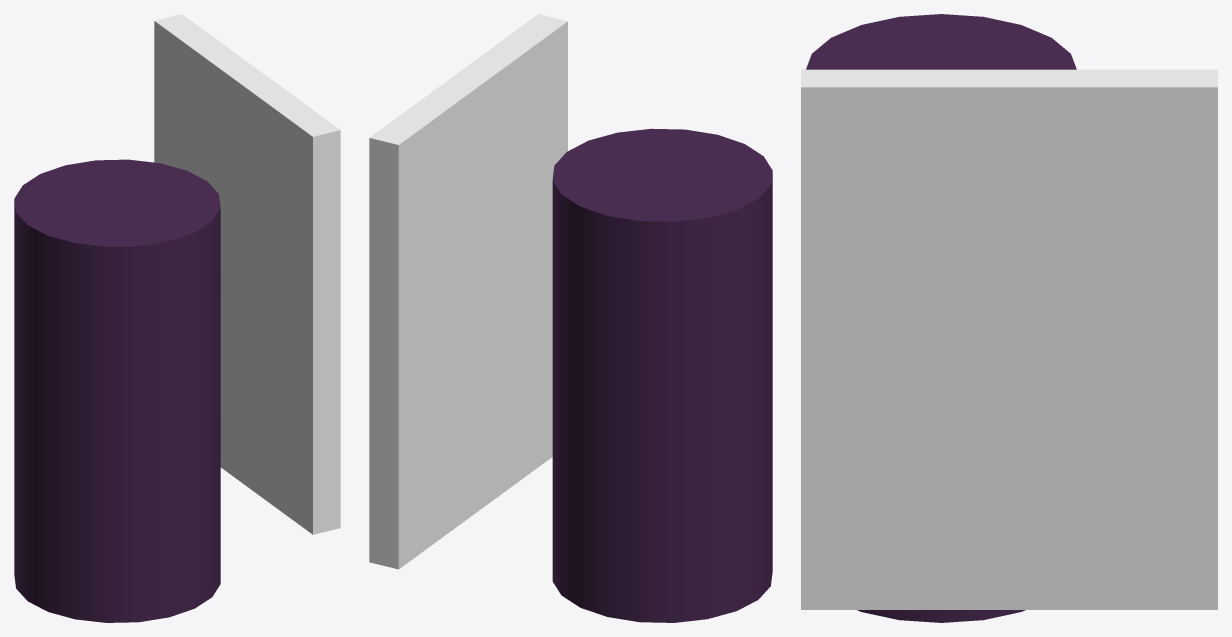
File: Enemy2.fbx
3 renders of one model, left to right at view 1: azimuth 30°, elevation 25°; view 2: azimuth 150°, elevation 25°; view 3: azimuth 270°, elevation 25°, orthographic. The views are drawn at different scales.
Visible parts, largest first — view 1: Enemy2, Shield For Enemy Two; view 2: Enemy2, Shield For Enemy Two; view 3: Shield For Enemy Two, Enemy2.
Part boxes in pixels (x1,y1,x2,y2): Enemy2: (14,159,220,622); Shield For Enemy Two: (154,14,340,534); Enemy2: (552,128,772,622); Shield For Enemy Two: (369,14,567,569); Shield For Enemy Two: (801,69,1217,609); Enemy2: (806,14,1076,622).
Size of the model in its own units: 144 by 238 by 153.
